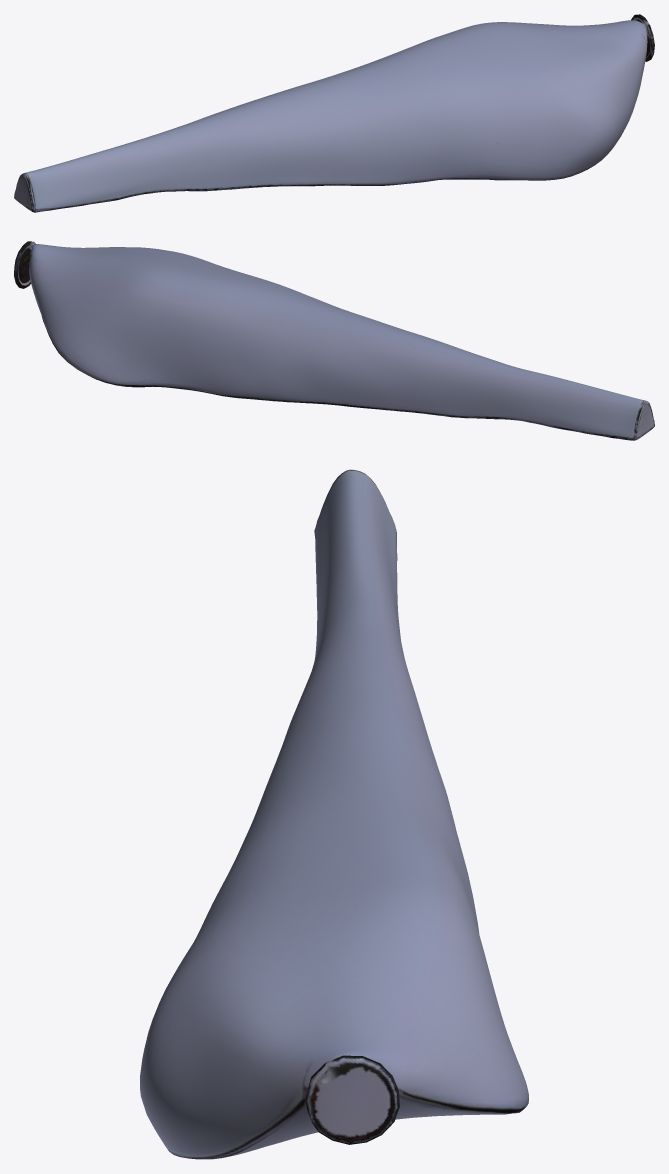
The model's file is Windmill.fbx.
3 renders of one model, top to bottom at view 1: azimuth 30°, elevation 25°; view 2: azimuth 150°, elevation 25°; view 3: azimuth 270°, elevation 25°, orthographic. The views are drawn at different scales.
Parts seen in each view (by area): view 1: RETOPO; view 2: RETOPO; view 3: RETOPO.
Boxes of the visible parts, x1=… form: RETOPO: x1=14, y1=14, x2=654, y2=212; RETOPO: x1=14, y1=241, x2=654, y2=440; RETOPO: x1=140, y1=469, x2=528, y2=1159.
Bounding box in the file's own units: 99.99 × 17.21 × 27.14.
Materials: 1 (1 with a texture image).
